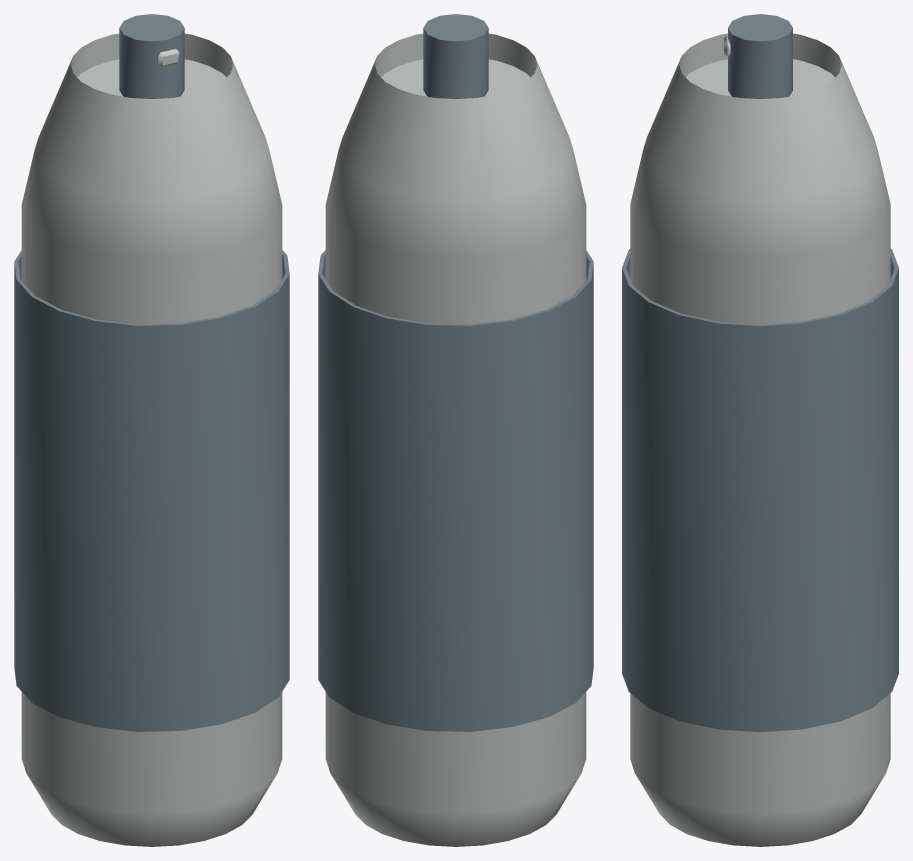
The model's file is spray-can.glb.
3 renders of one model, left to right at view 1: azimuth 30°, elevation 25°; view 2: azimuth 150°, elevation 25°; view 3: azimuth 270°, elevation 25°, orthographic.
Visible parts, largest first — view 1: printed_band, bottle_body, nozzle; view 2: printed_band, bottle_body, nozzle; view 3: printed_band, bottle_body, nozzle.
Boxes of the visible parts, x1,y1,x2,y2 form: printed_band: [14, 250, 289, 731]; bottle_body: [21, 33, 282, 846]; nozzle: [119, 14, 184, 98]; printed_band: [318, 250, 593, 731]; bottle_body: [325, 33, 586, 846]; nozzle: [423, 14, 488, 98]; printed_band: [622, 248, 898, 732]; bottle_body: [630, 33, 890, 846]; nozzle: [728, 14, 792, 98].
Bounding box in the file's own units: 0.068 × 0.21 × 0.068.
